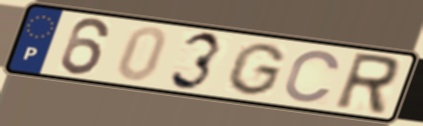0: (113, 25, 172, 84)
3: (166, 31, 230, 93)
6: (58, 17, 110, 77)
C: (281, 48, 343, 105)
G: (223, 41, 289, 98)
R: (330, 50, 403, 118)
